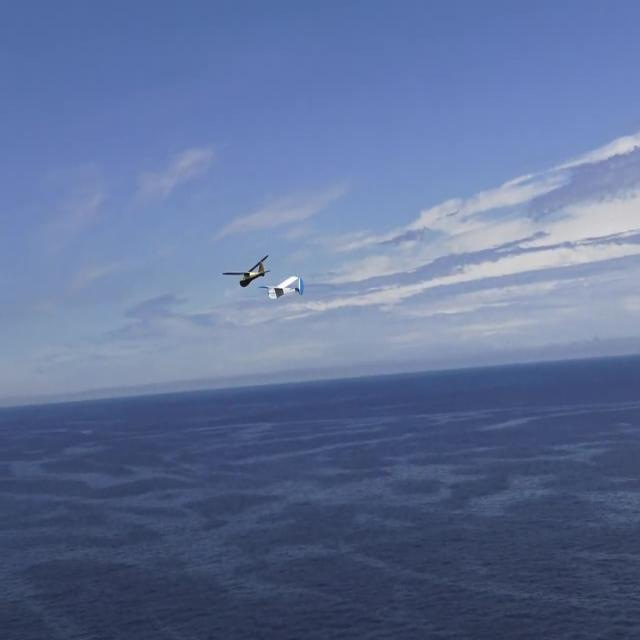iha: (221, 254, 271, 287), (260, 275, 306, 300)
